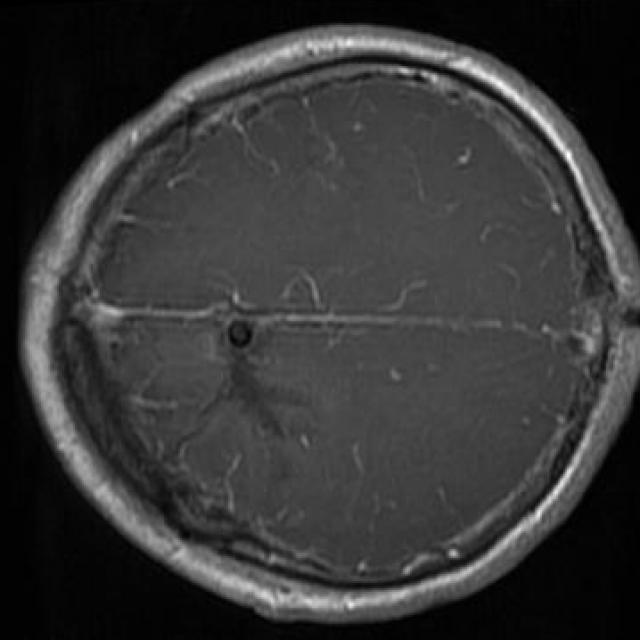glioma: (203, 351, 303, 437)
